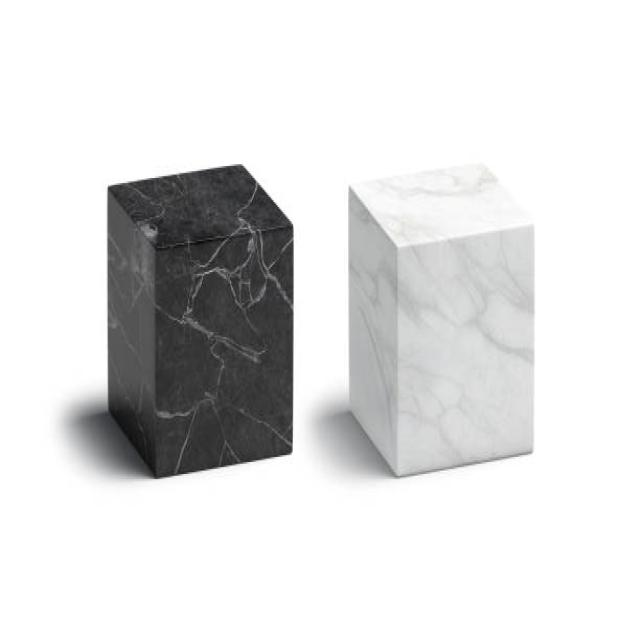Metamorphic: (94, 156, 303, 481), (341, 171, 541, 471)
